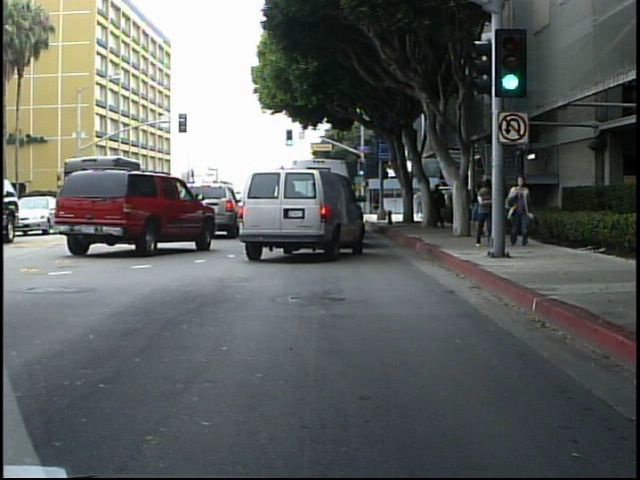person: (506, 171, 536, 256), (477, 174, 501, 248), (499, 172, 521, 244), (474, 174, 494, 251), (427, 178, 449, 233), (412, 185, 424, 217)
